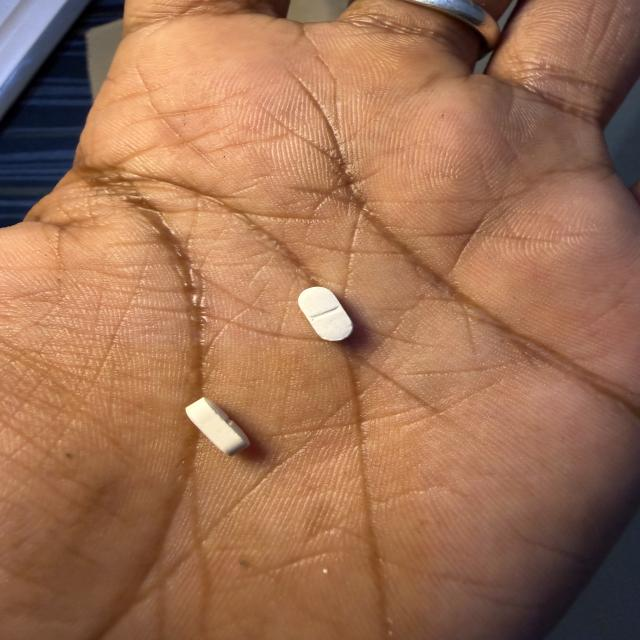pill: (186, 398, 249, 455), (298, 287, 353, 341)
